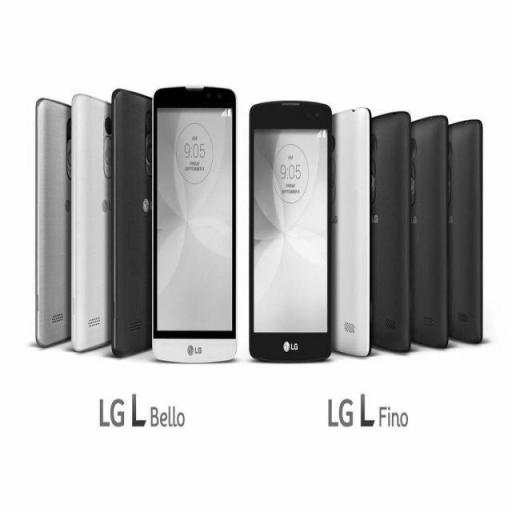phone: (149, 85, 237, 360), (249, 100, 329, 364), (115, 87, 152, 356), (372, 109, 412, 352), (411, 115, 452, 347), (333, 108, 371, 355), (72, 89, 107, 349), (37, 97, 68, 344), (452, 119, 480, 347)
